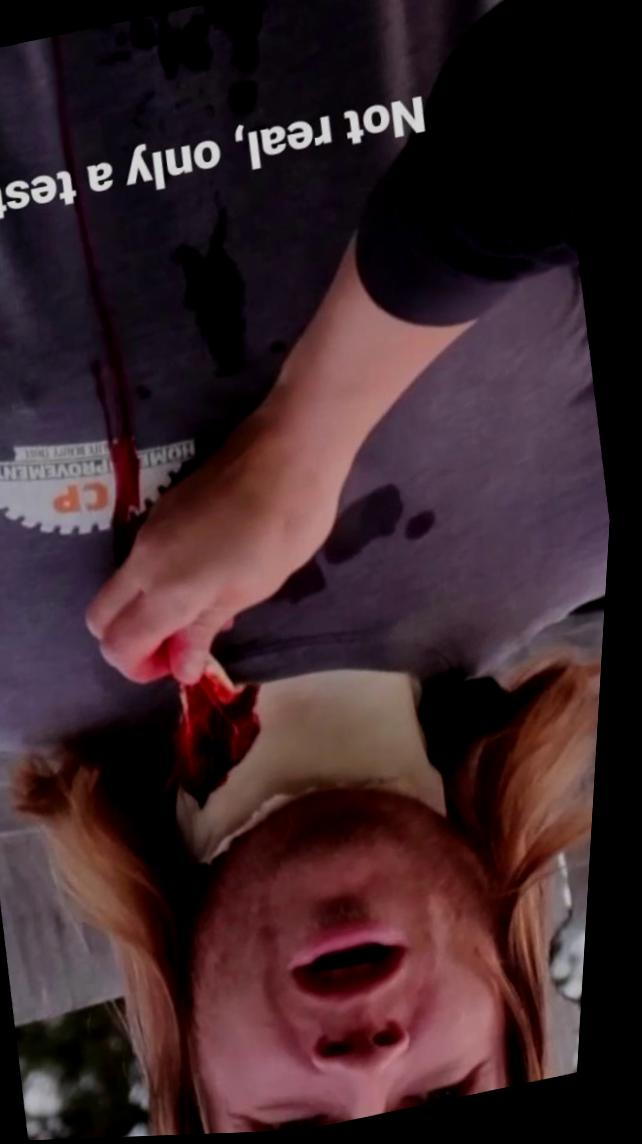Fire: (50, 35, 148, 566), (186, 658, 270, 808)
